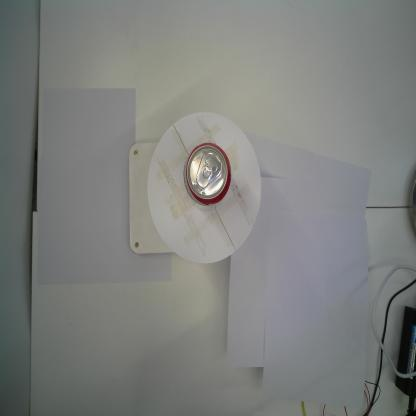Alcohol: (182, 142, 232, 207)
